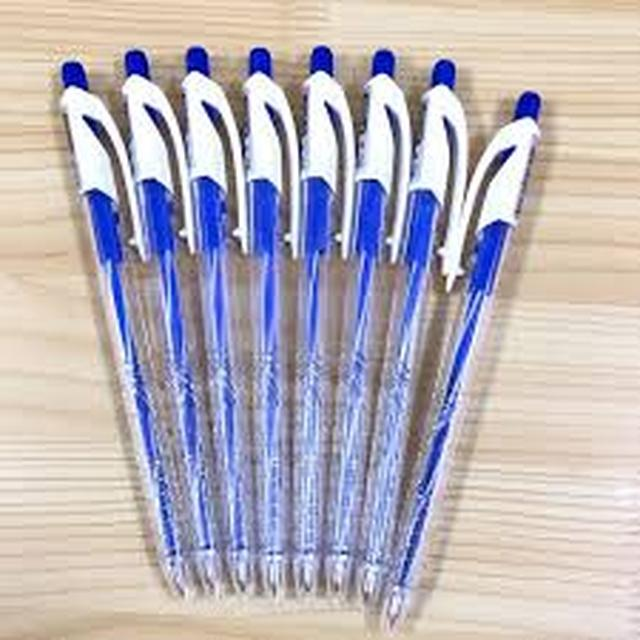pen: (374, 92, 565, 635), (46, 51, 204, 625), (351, 42, 476, 627), (111, 44, 234, 617), (324, 44, 419, 618), (172, 37, 265, 609), (296, 42, 357, 607), (249, 47, 300, 607), (57, 56, 58, 73)
